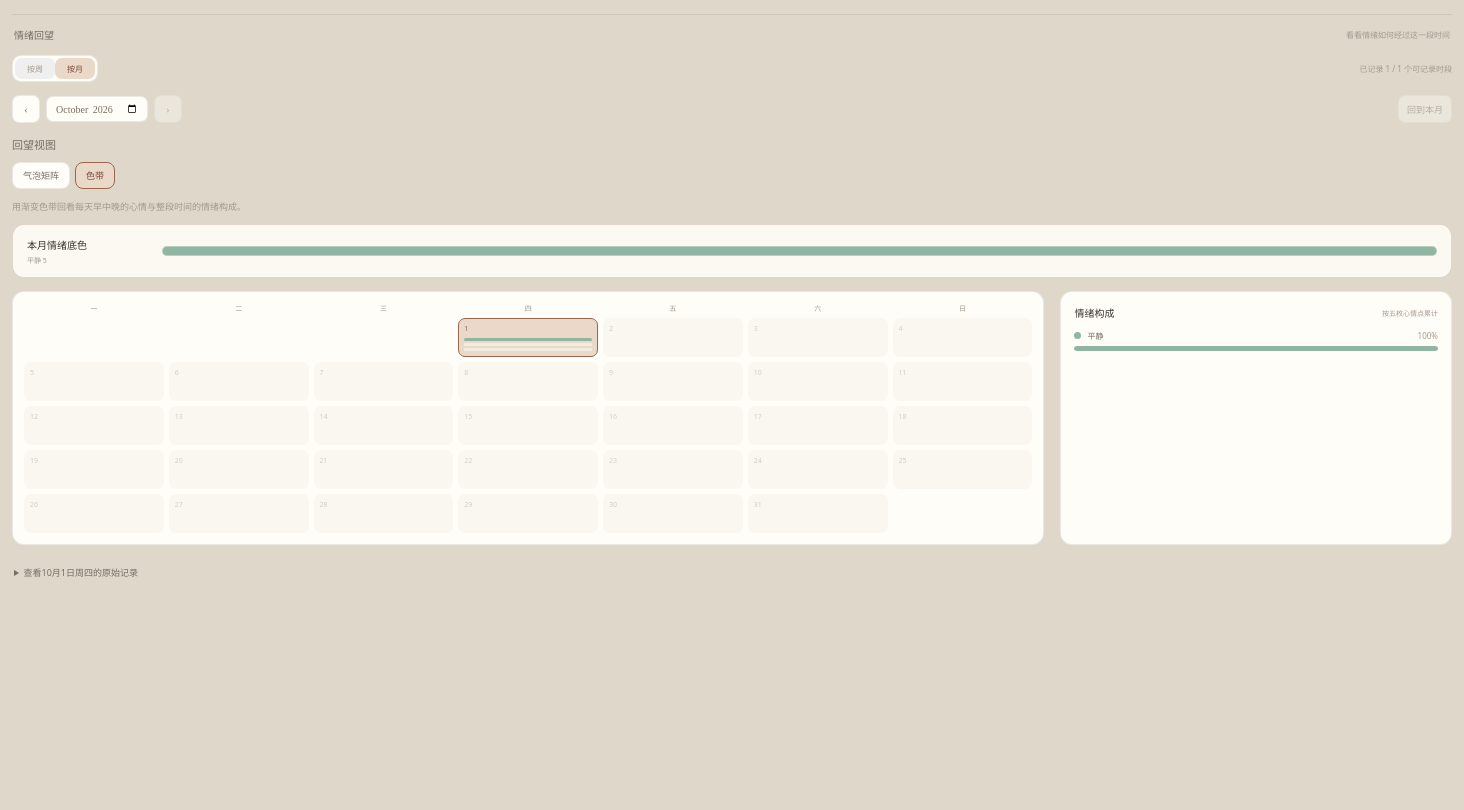
historical mood reflection › browses previous weeks and returns without changing the stored entries
This screenshot has width=1464, height=810.
Click the button "按周" at (35, 68), box [15, 58, 55, 79]
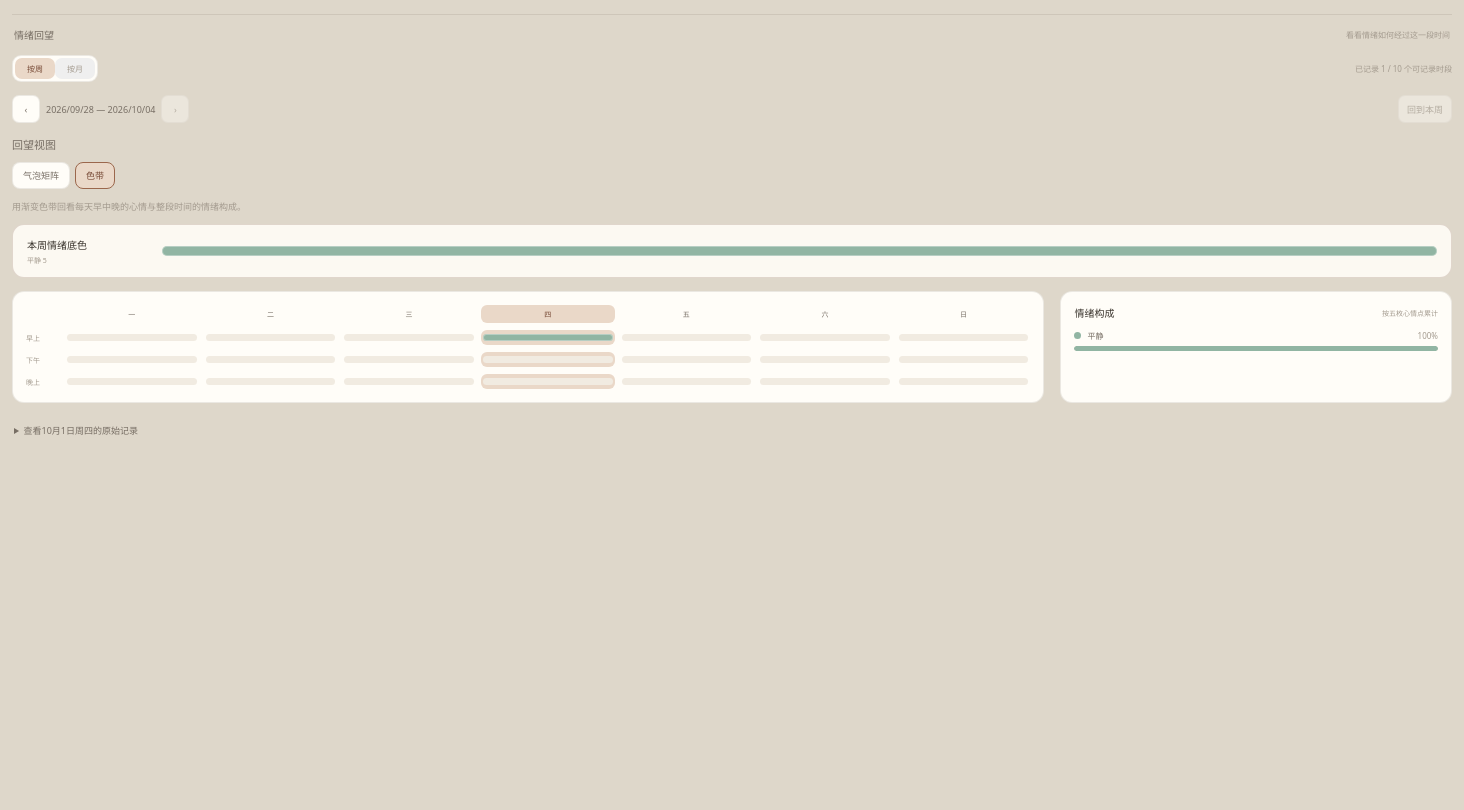
Click the button named "上一周" at (26, 109), box [12, 95, 40, 123]
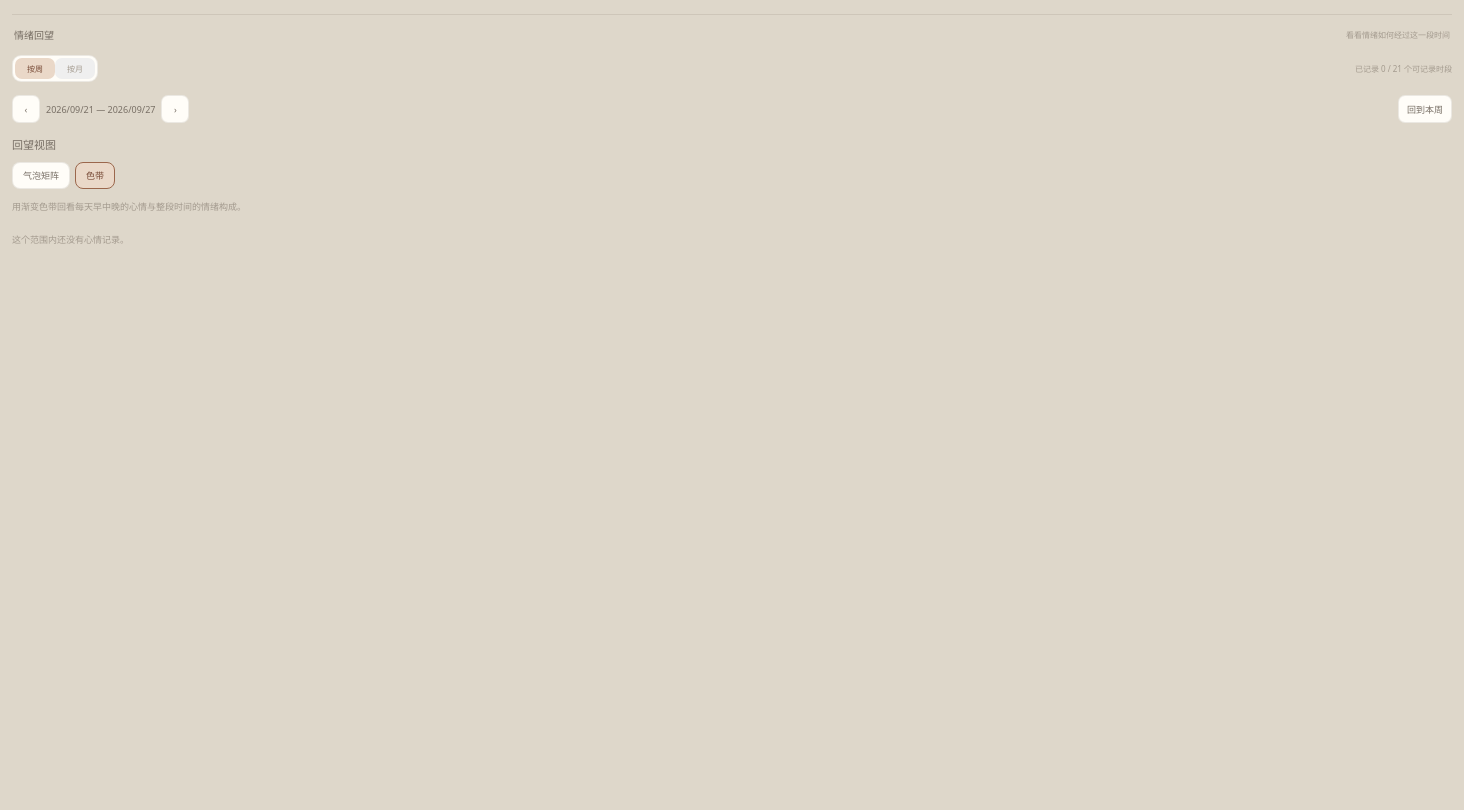
Check: the text "2026/09/21 — 2026/09/27" is shown, box [46, 102, 156, 116]
Click the button named "上一周" at (26, 109), box [12, 95, 40, 123]
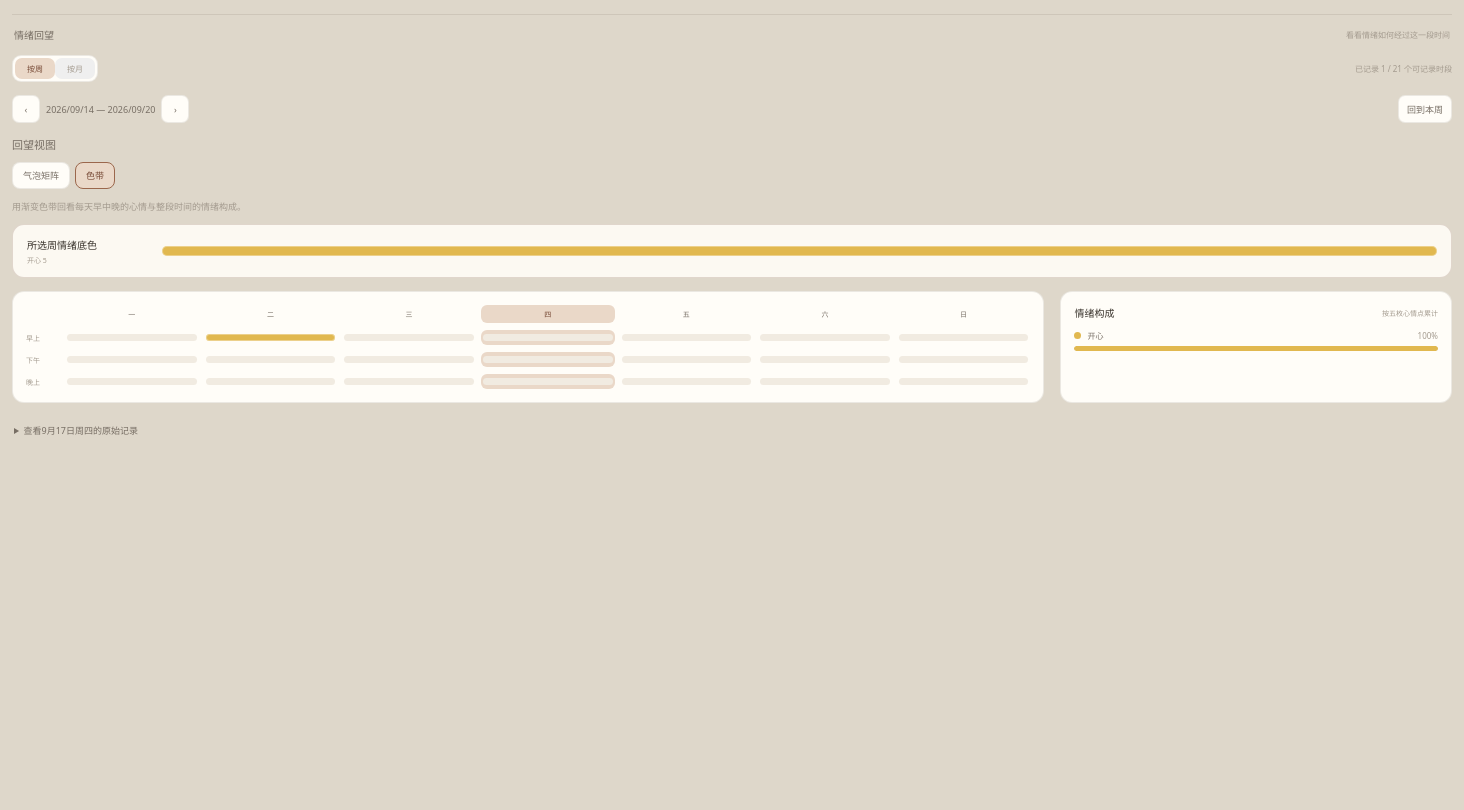
Click the button named "查看 2026-09-15 的心情" at (270, 314), box [204, 305, 337, 323]
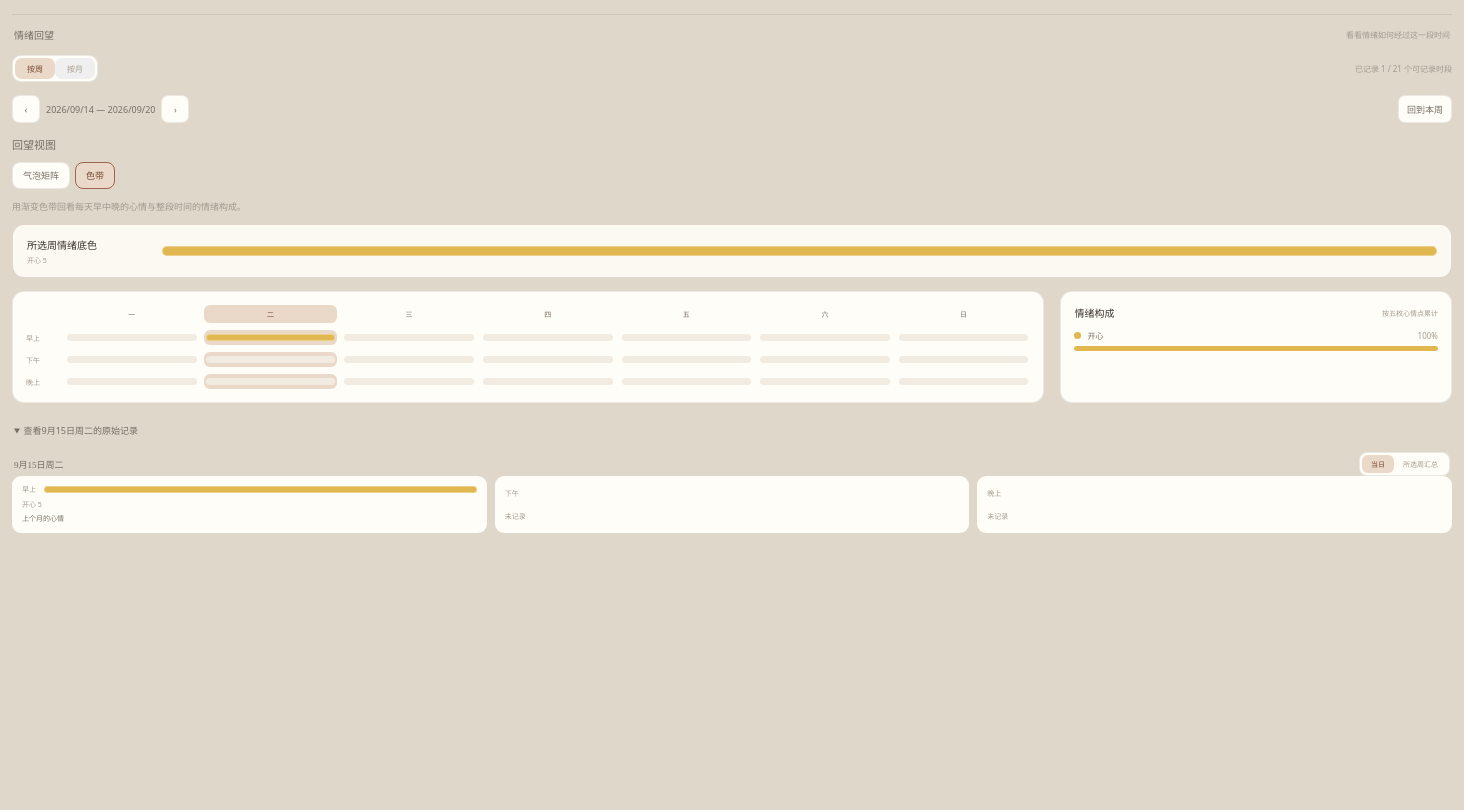
Check: the text "上个月的心情" is shown, box [22, 515, 64, 523]
Click the button "回到本周" at (1425, 109), box [1398, 95, 1452, 123]
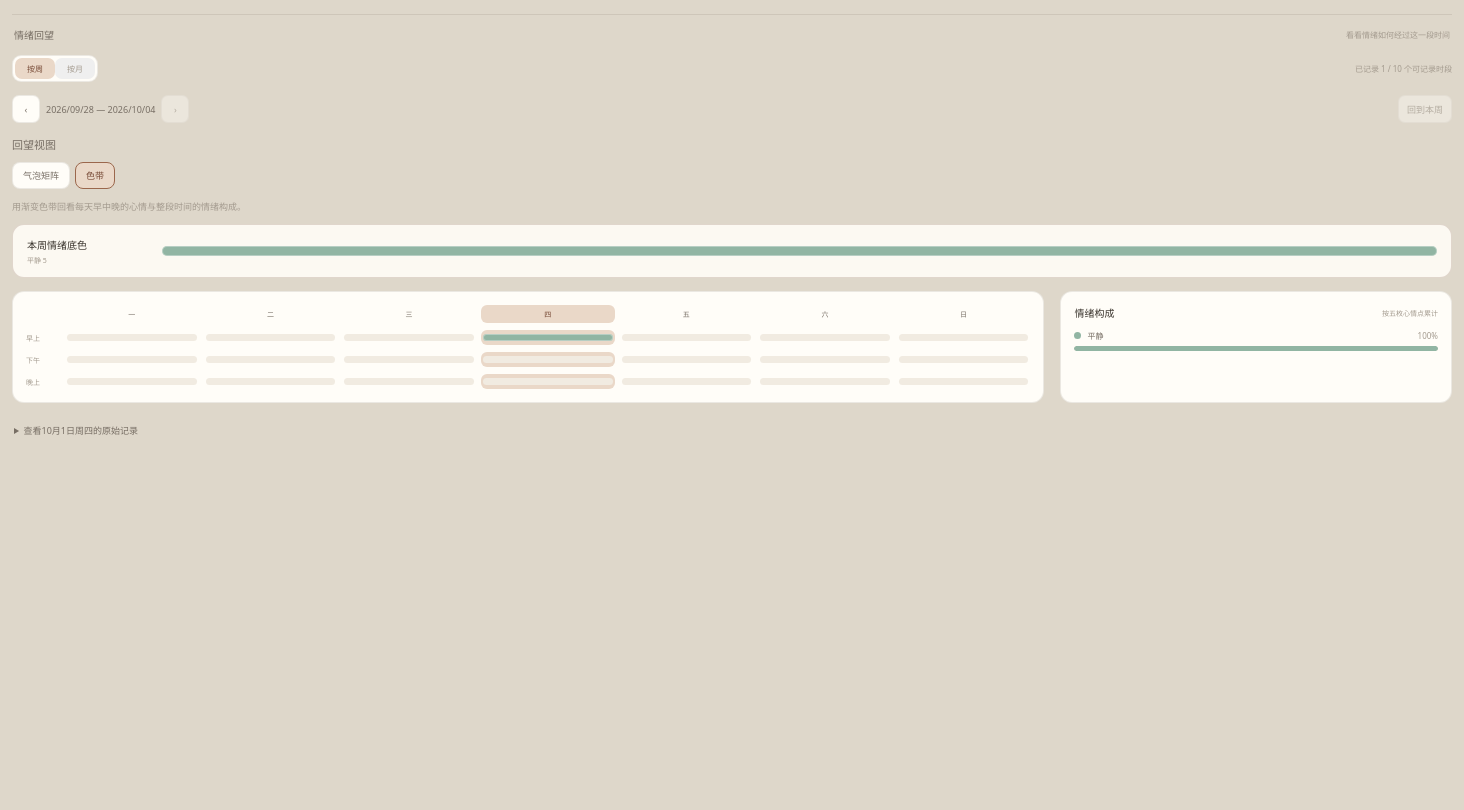
Check: the button named "下一周" is disabled, box [162, 95, 190, 123]
